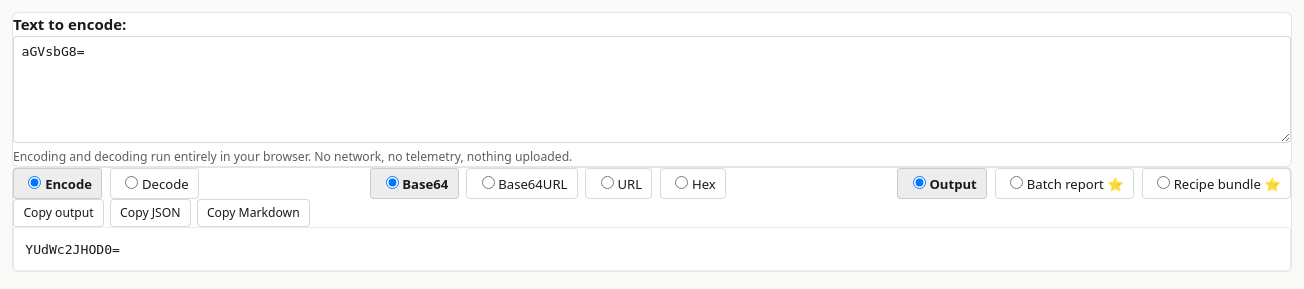
Test: CodecApp › switches operation via the radio control (encode -> decode)
The image size is (1304, 289).
Click the radio button with test id "codec-op-decode". click: (132, 182)
box: [125,176,138,189]
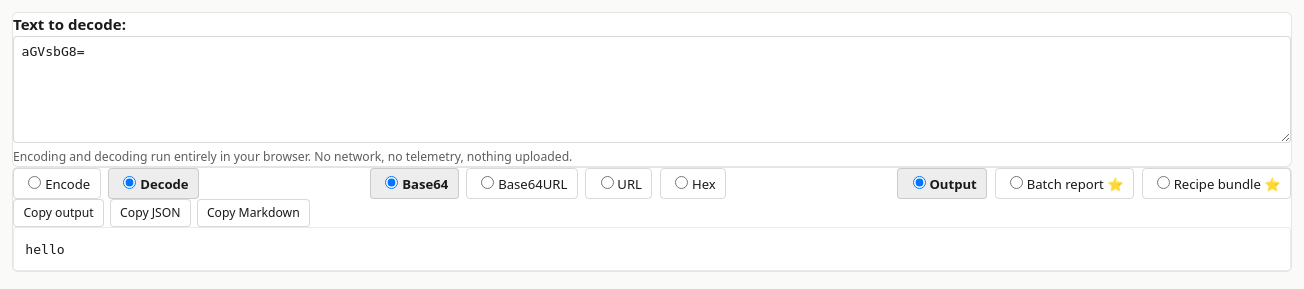
Check: the text with test id "codec-output" reads "hello", box [25,242,65,256]
